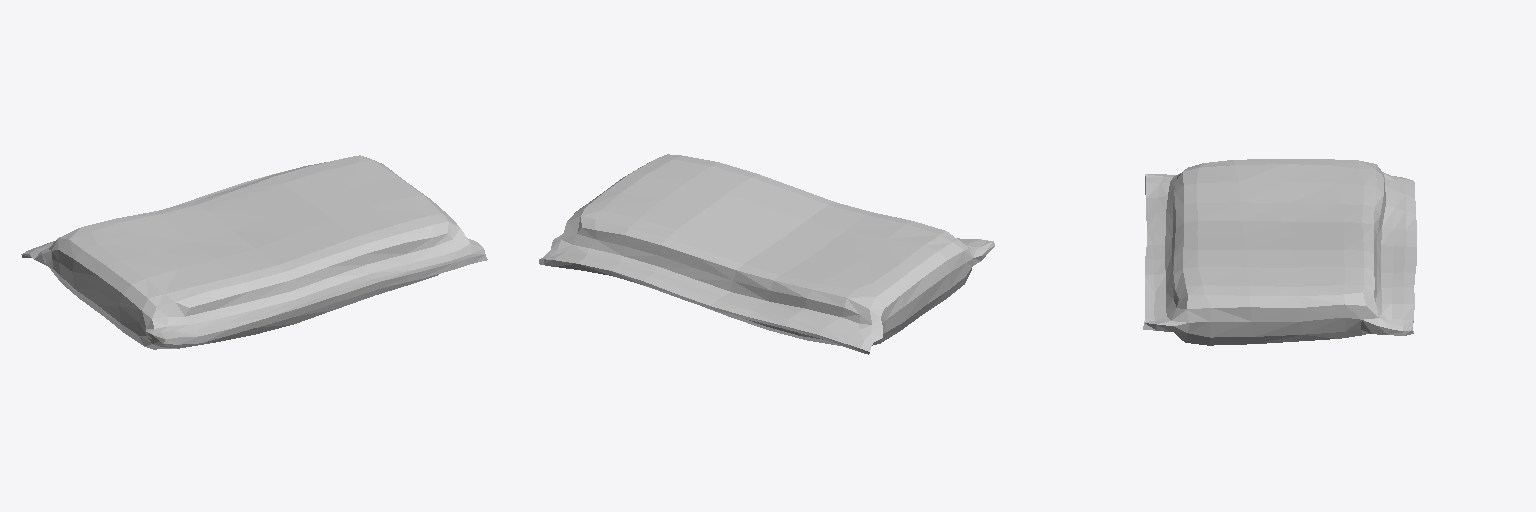
Rendered from firstaid_simple.obj.
3 views of the same model, side by side, from view 1: azimuth 30°, elevation 25°; view 2: azimuth 150°, elevation 25°; view 3: azimuth 270°, elevation 25° (orthographic).
Parts seen in each view (by area): view 1: Firstaidkit_02; view 2: Firstaidkit_02; view 3: Firstaidkit_02.
Boxes of the visible parts, <box> form: Firstaidkit_02: <box>21,155,487,349</box>; Firstaidkit_02: <box>539,154,994,354</box>; Firstaidkit_02: <box>1143,159,1416,345</box>.
Size of the model in its own units: 0.1732 by 0.0362 by 0.1223.